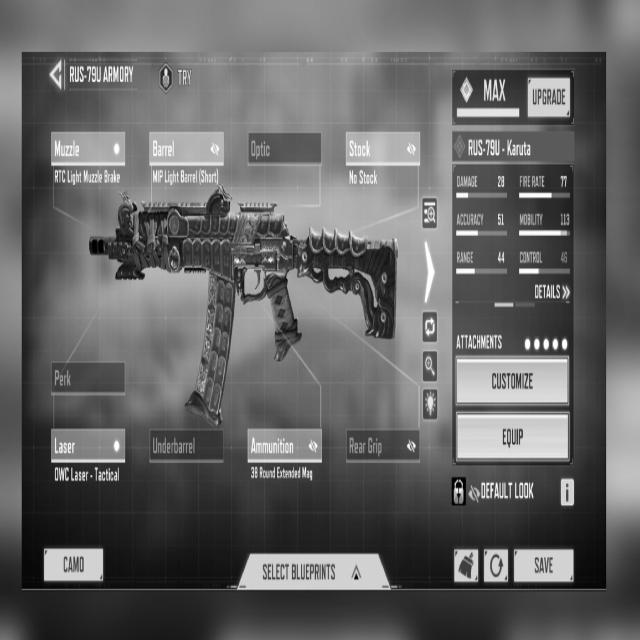Weapon: (90, 185, 397, 425)
